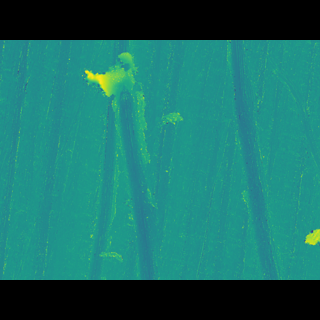Loch: (228, 68, 296, 250), (84, 109, 161, 250), (265, 82, 320, 179), (76, 76, 154, 114)
